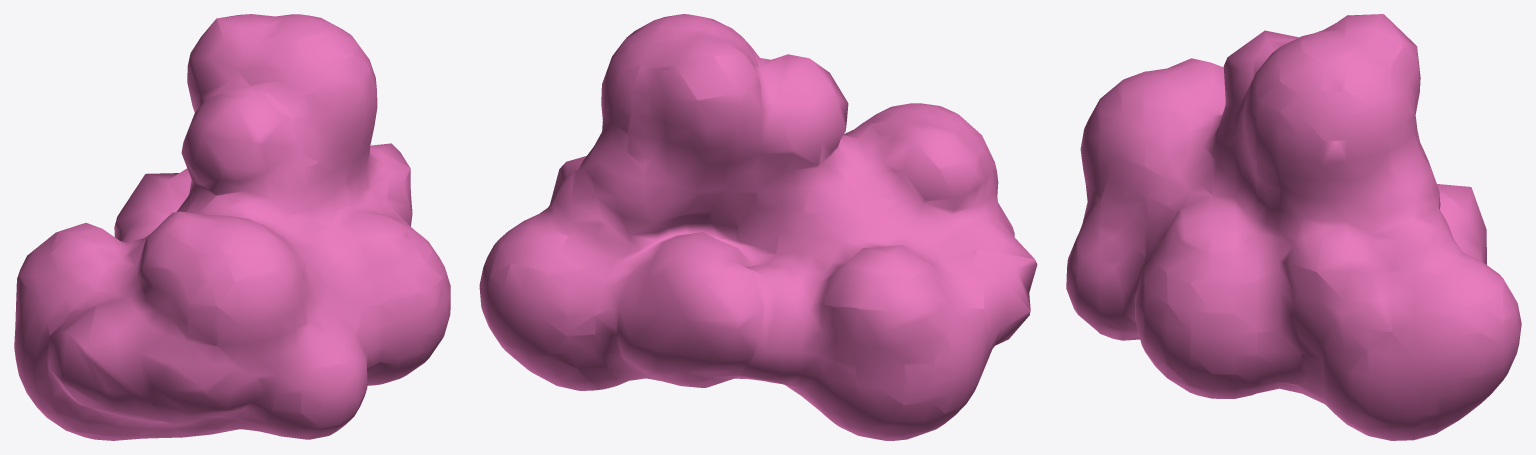
Rendered from BLOB.glb.
3 renders of one model, left to right at view 1: azimuth 30°, elevation 25°; view 2: azimuth 150°, elevation 25°; view 3: azimuth 270°, elevation 25°, orthographic. The views are drawn at different scales.
Parts seen in each view (by area): view 1: Mball.018; view 2: Mball.018; view 3: Mball.018.
Part boxes in pixels (<box>): Mball.018: <box>14,14,450,440</box>; Mball.018: <box>479,14,1037,440</box>; Mball.018: <box>1066,14,1521,440</box>.
Bounding box in the file's own units: 9.23 × 7.42 × 8.13.
